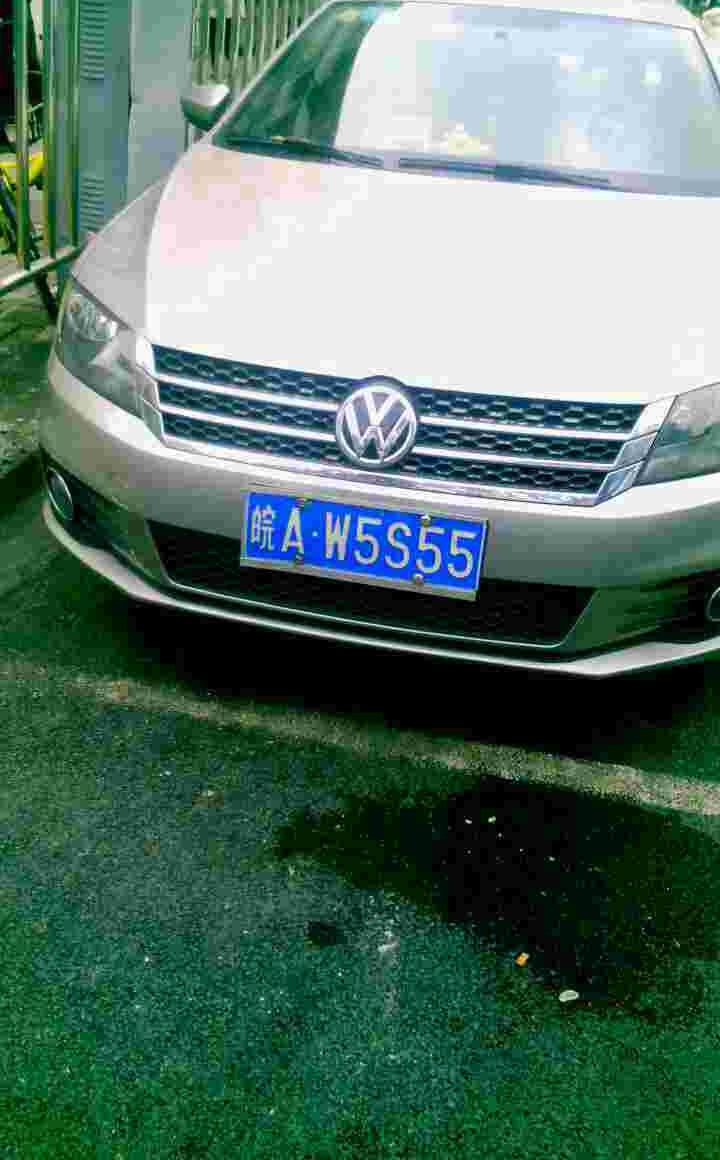license_plate: (249, 496, 483, 574)
